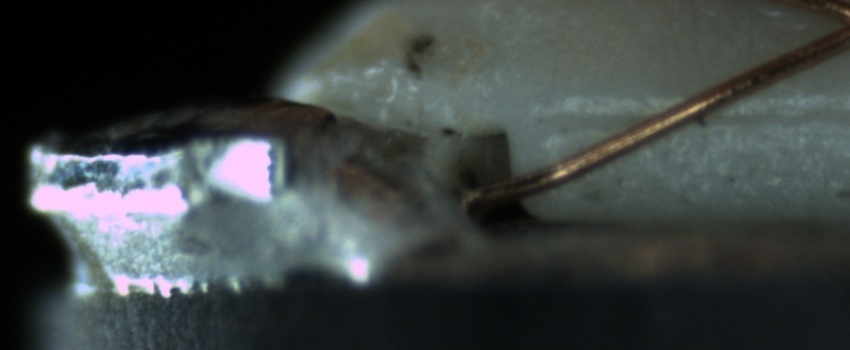CL: (814, 2, 849, 45)
DL: (548, 84, 848, 147)
